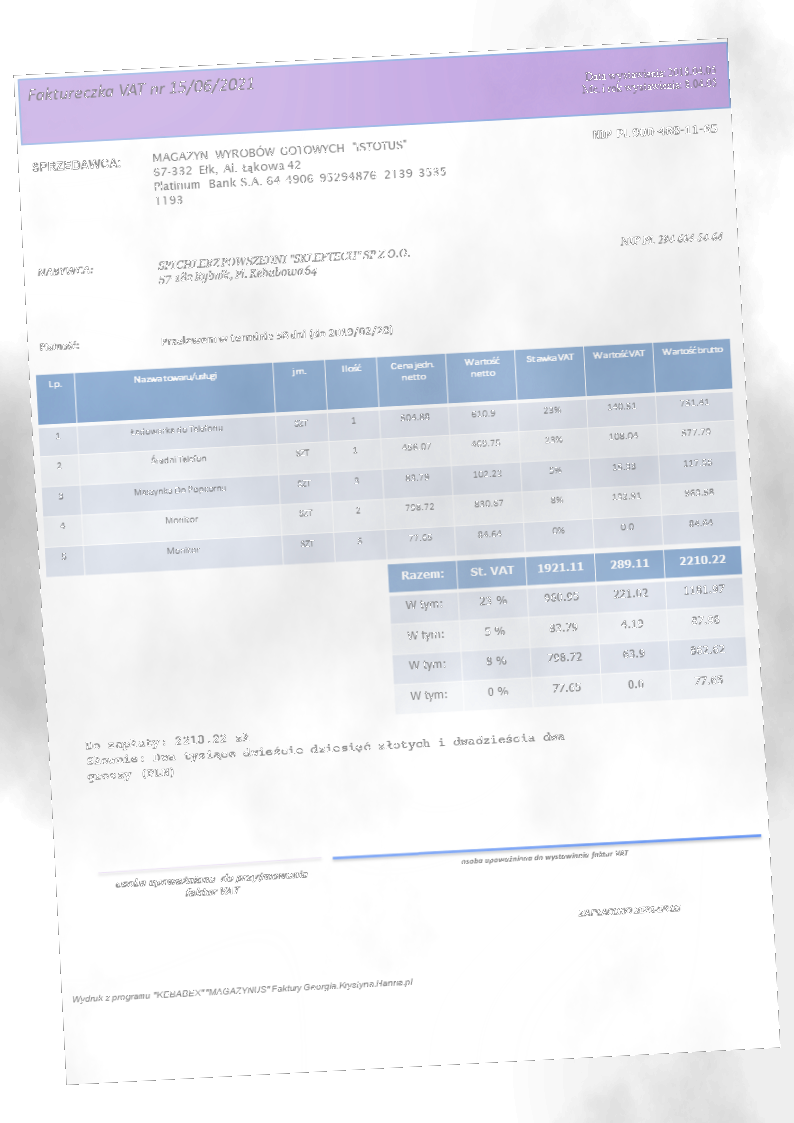Table: (34, 337, 742, 579), (386, 544, 750, 715)
TextBox: (83, 713, 570, 785), (149, 133, 450, 207), (69, 974, 416, 1006), (156, 245, 413, 287), (112, 866, 312, 904), (25, 74, 256, 105), (159, 323, 394, 348), (579, 61, 719, 95), (458, 847, 631, 867), (589, 121, 719, 143), (29, 153, 123, 176), (618, 229, 724, 249), (575, 900, 681, 920), (35, 262, 95, 279), (37, 337, 81, 355)
